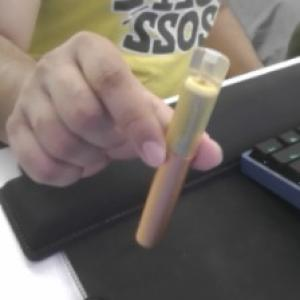Golden-E-Ciggirate: (134, 43, 236, 253)
